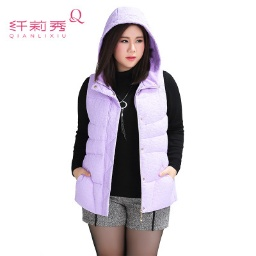face: (98, 23, 154, 91)
